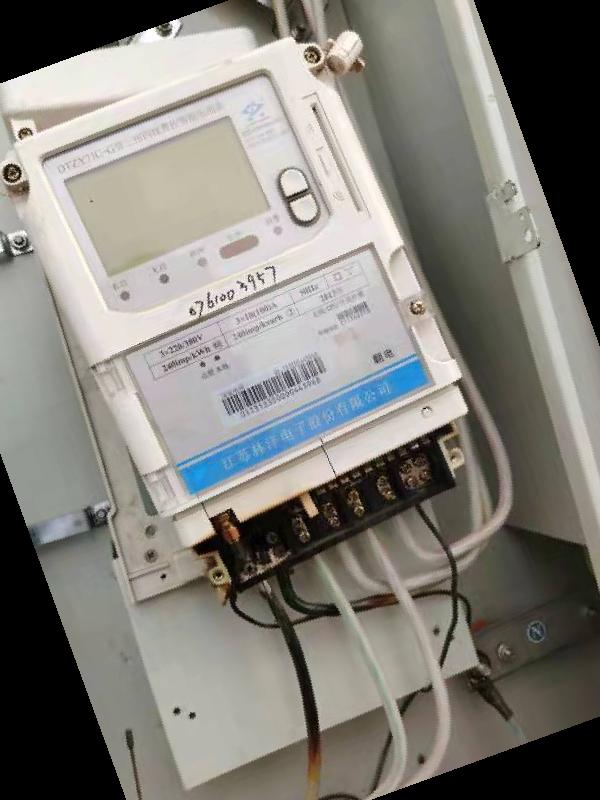digital: (1, 35, 462, 516)
